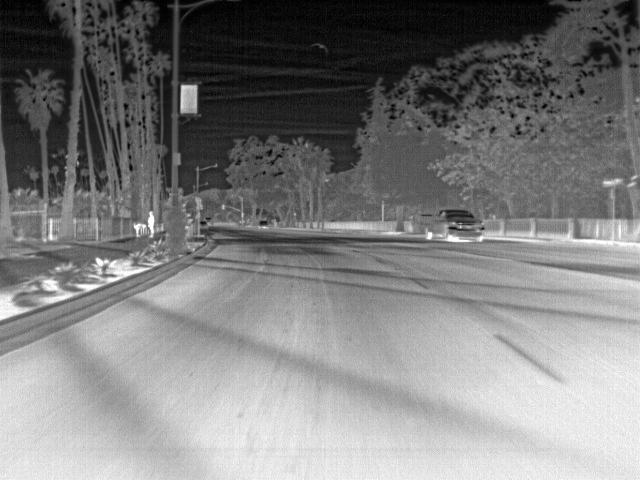car: (411, 209, 482, 241), (260, 220, 269, 231), (201, 220, 210, 230)
person: (147, 209, 157, 238)
